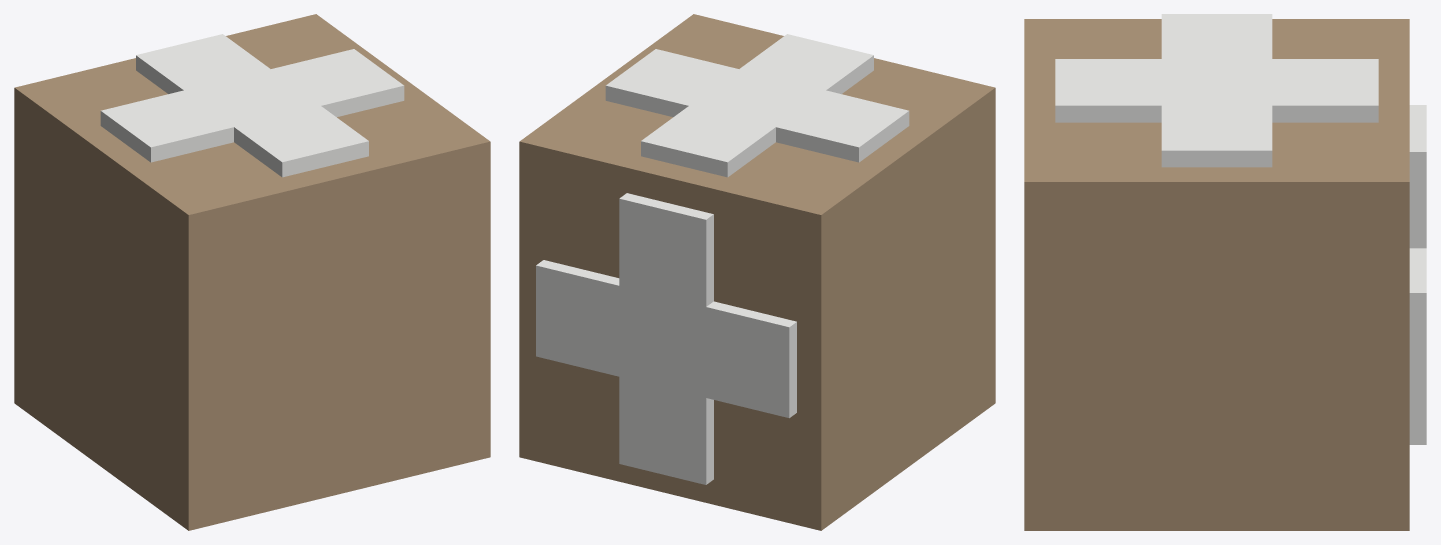
File: item-repair.glb
3 views of the same model, side by side, from view 1: azimuth 30°, elevation 25°; view 2: azimuth 150°, elevation 25°; view 3: azimuth 270°, elevation 25° (orthographic). The views are drawn at different scales.
Visible parts, largest first — view 1: item-repair; view 2: item-repair; view 3: item-repair.
Part boxes in pixels (left/top/right/bottom): item-repair: left=14, top=14, right=490, bottom=530; item-repair: left=519, top=14, right=995, bottom=530; item-repair: left=1024, top=14, right=1426, bottom=530.
Size of the model in its own units: 1.25 by 1.31 by 1.3.
